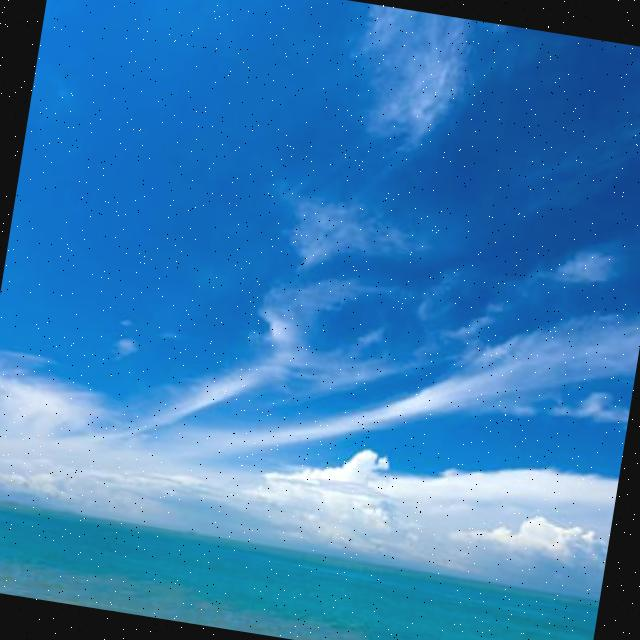Ci: (1, 22, 640, 584)
